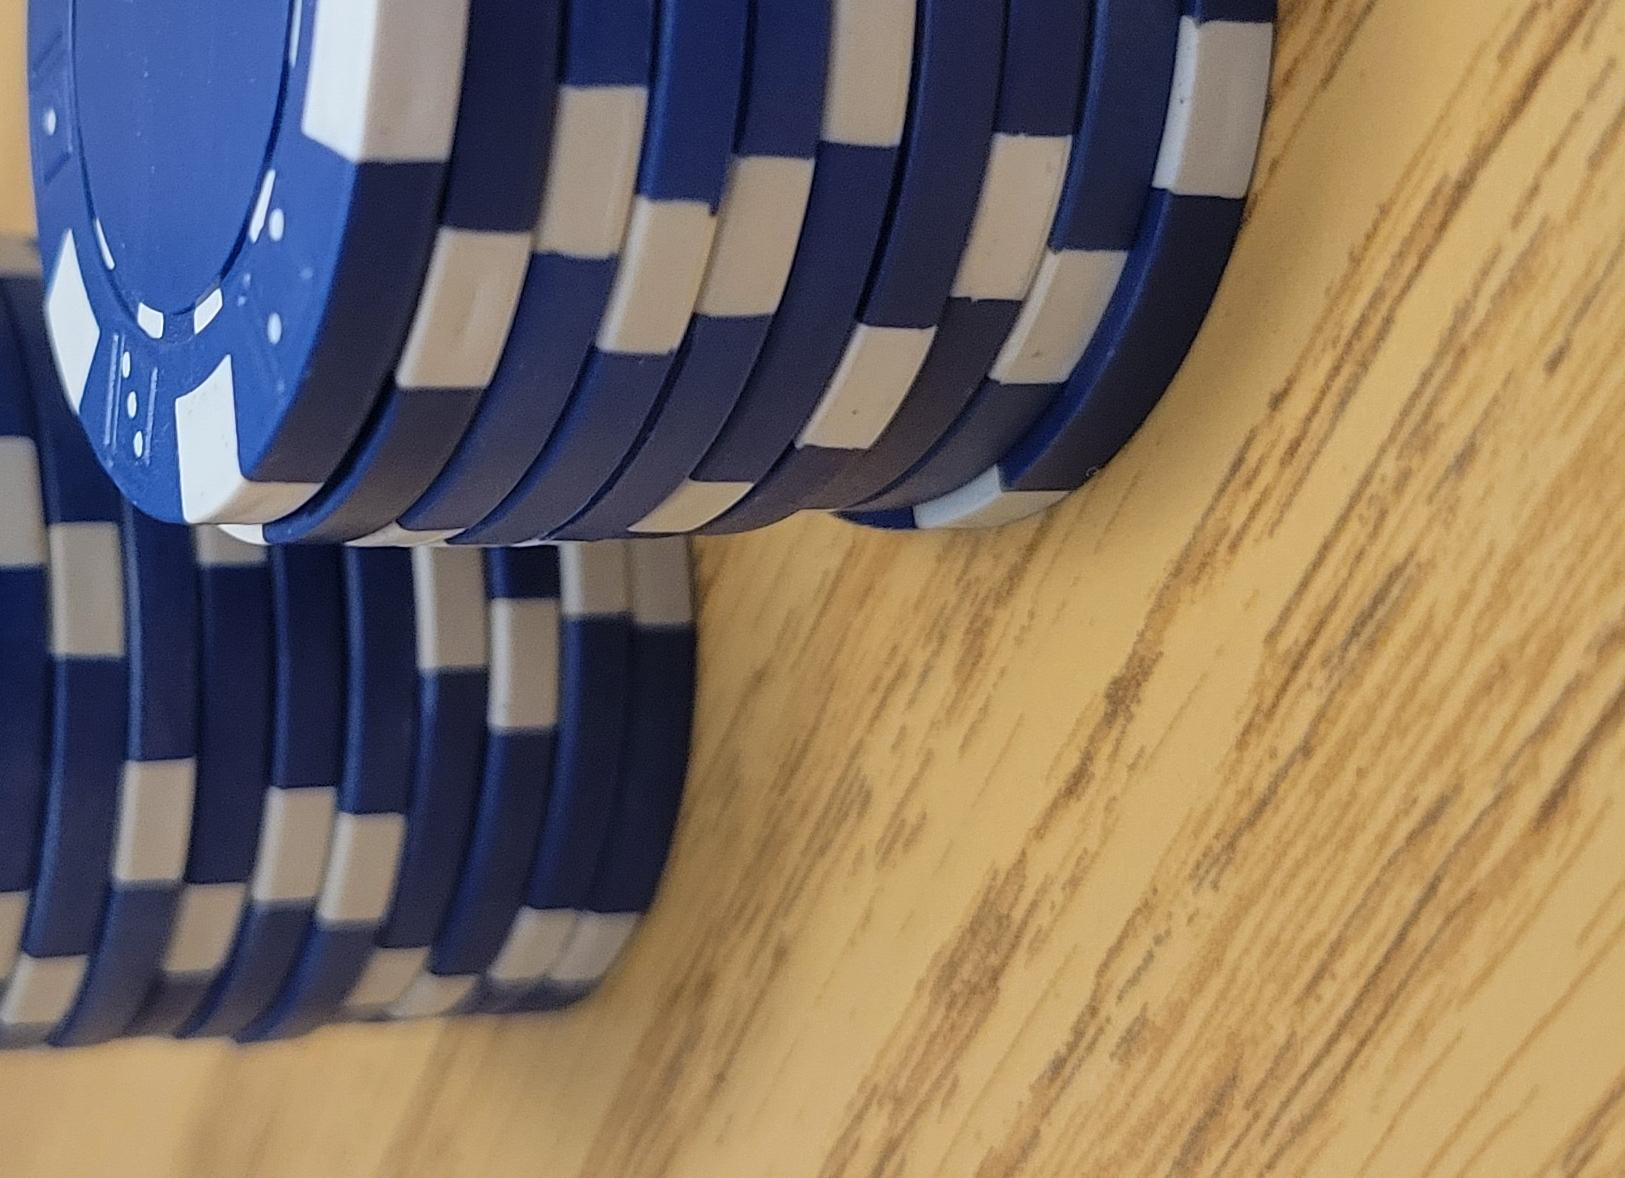Chip: (1, 382, 791, 1178)
